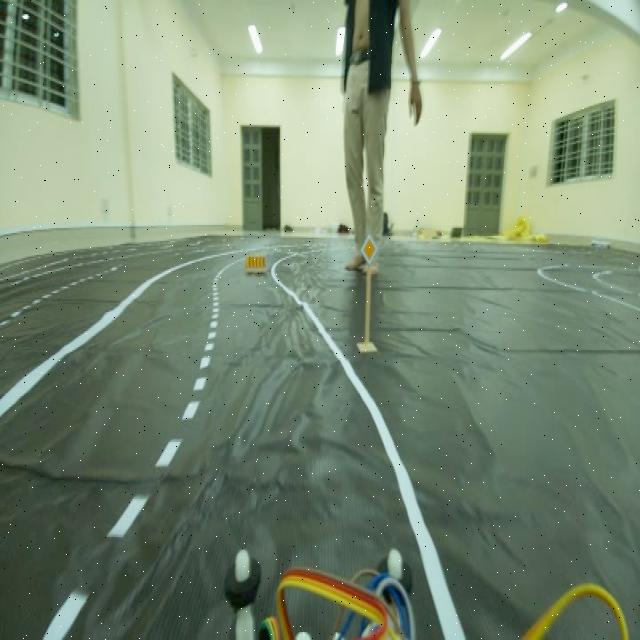priority: (361, 226, 378, 271)
